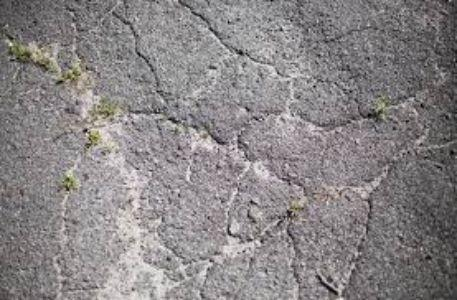alligator-crack: (104, 2, 457, 300)
crack: (5, 11, 98, 300)
